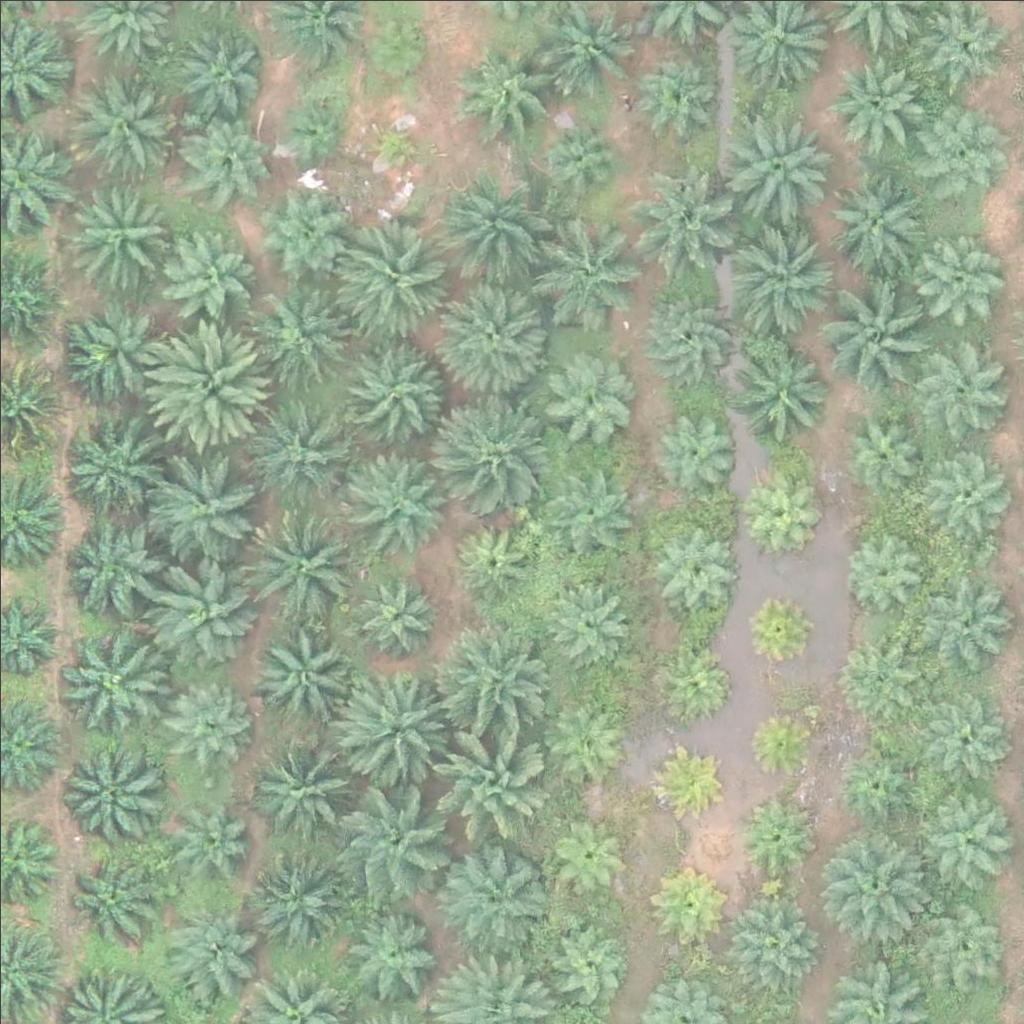Kelapa_Sawit: (140, 320, 265, 446), (150, 454, 263, 568), (726, 111, 839, 225), (249, 725, 362, 839), (248, 507, 361, 620), (244, 395, 357, 508), (337, 340, 450, 453), (440, 279, 553, 392), (56, 624, 169, 737), (332, 780, 445, 893), (433, 622, 546, 735), (818, 831, 931, 944), (143, 549, 256, 662), (441, 176, 553, 290), (724, 215, 836, 329), (51, 738, 163, 852), (428, 717, 540, 831), (345, 439, 457, 552), (340, 222, 452, 335), (443, 388, 555, 501), (630, 171, 742, 284), (826, 277, 938, 390), (338, 675, 450, 788), (441, 844, 553, 957), (56, 415, 156, 516), (70, 178, 170, 279), (75, 66, 175, 167), (253, 286, 353, 387), (251, 185, 351, 286), (459, 37, 559, 138), (545, 216, 645, 317), (732, 340, 832, 441), (829, 172, 929, 273), (908, 335, 1008, 436), (250, 622, 350, 723), (345, 910, 445, 1011), (912, 571, 1012, 672), (61, 509, 161, 609), (71, 309, 171, 409), (538, 351, 638, 451), (640, 283, 740, 383), (57, 845, 157, 945), (156, 901, 256, 1001), (249, 845, 349, 945), (183, 111, 271, 199), (450, 514, 538, 602), (536, 112, 624, 200), (655, 521, 743, 609), (829, 52, 917, 140), (929, 449, 1017, 537), (833, 741, 921, 829), (833, 623, 921, 711), (350, 569, 438, 657), (547, 813, 635, 901), (542, 690, 630, 778), (923, 785, 1011, 873), (922, 693, 1010, 781), (181, 23, 268, 112), (551, 463, 638, 552), (166, 231, 253, 319), (654, 405, 741, 493), (632, 43, 719, 131), (838, 525, 925, 613), (841, 401, 928, 489), (927, 6, 1014, 94), (918, 118, 1005, 206), (915, 233, 1002, 321), (165, 780, 252, 868), (160, 675, 247, 763), (545, 915, 632, 1003), (544, 581, 631, 669), (730, 905, 817, 993), (918, 896, 1005, 984), (661, 647, 736, 723), (277, 90, 352, 166), (358, 3, 433, 79), (744, 467, 819, 543), (739, 594, 814, 670), (646, 743, 721, 819), (736, 802, 811, 877), (744, 705, 819, 780), (646, 866, 721, 941), (364, 115, 426, 178)
